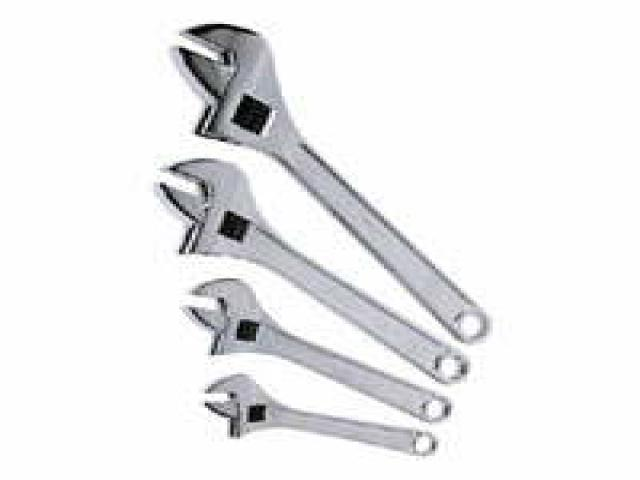Adjustable spanner: (179, 24, 489, 342), (159, 158, 468, 382), (189, 279, 450, 421), (205, 374, 439, 456)
